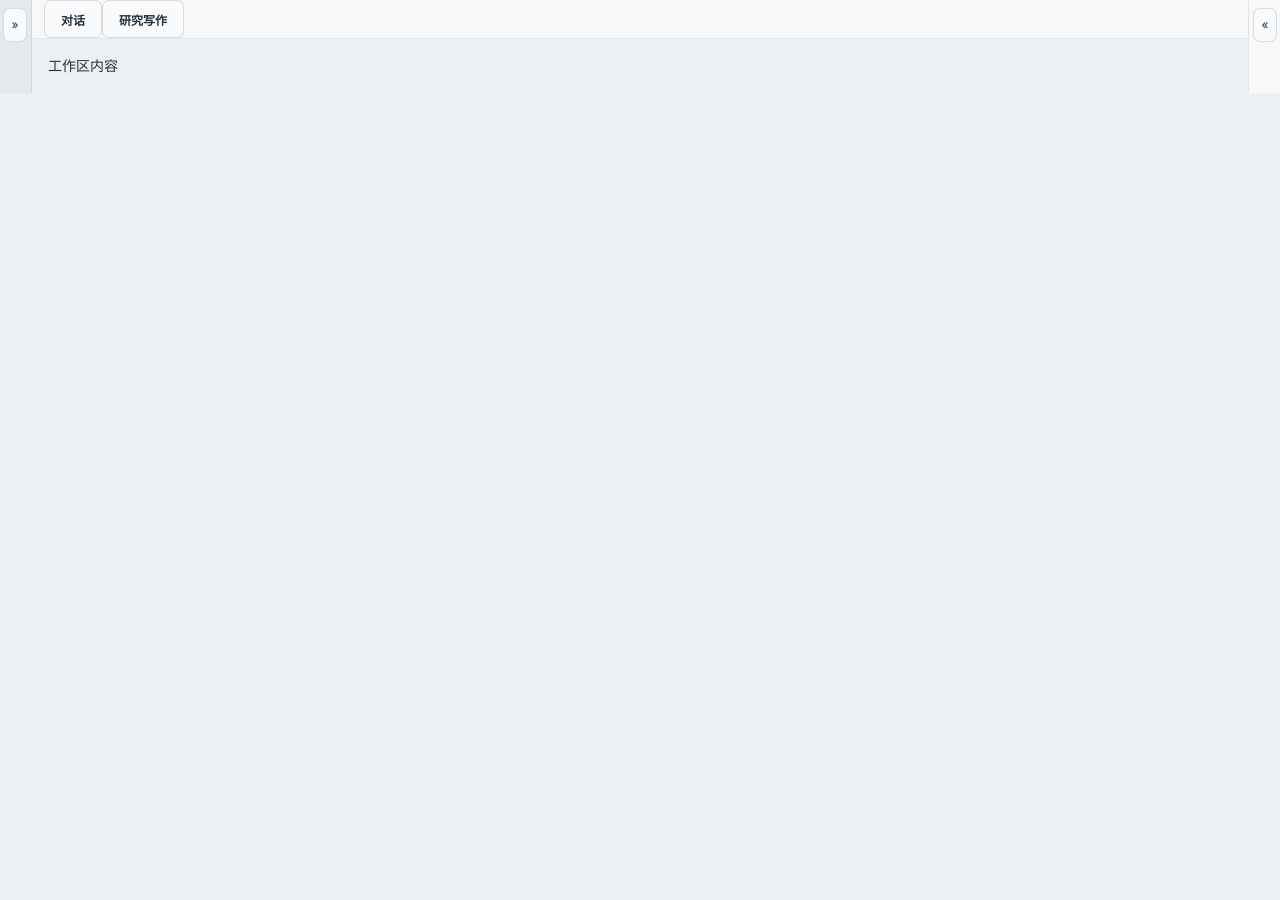
Test case: METIS-501 ProjectShell — collapse behavior › preserves a non-default user preference across narrow and wide bands
Click the button named "展开检查器".
click(1265, 25)  # box x1=1253 y1=8 x2=1277 y2=42
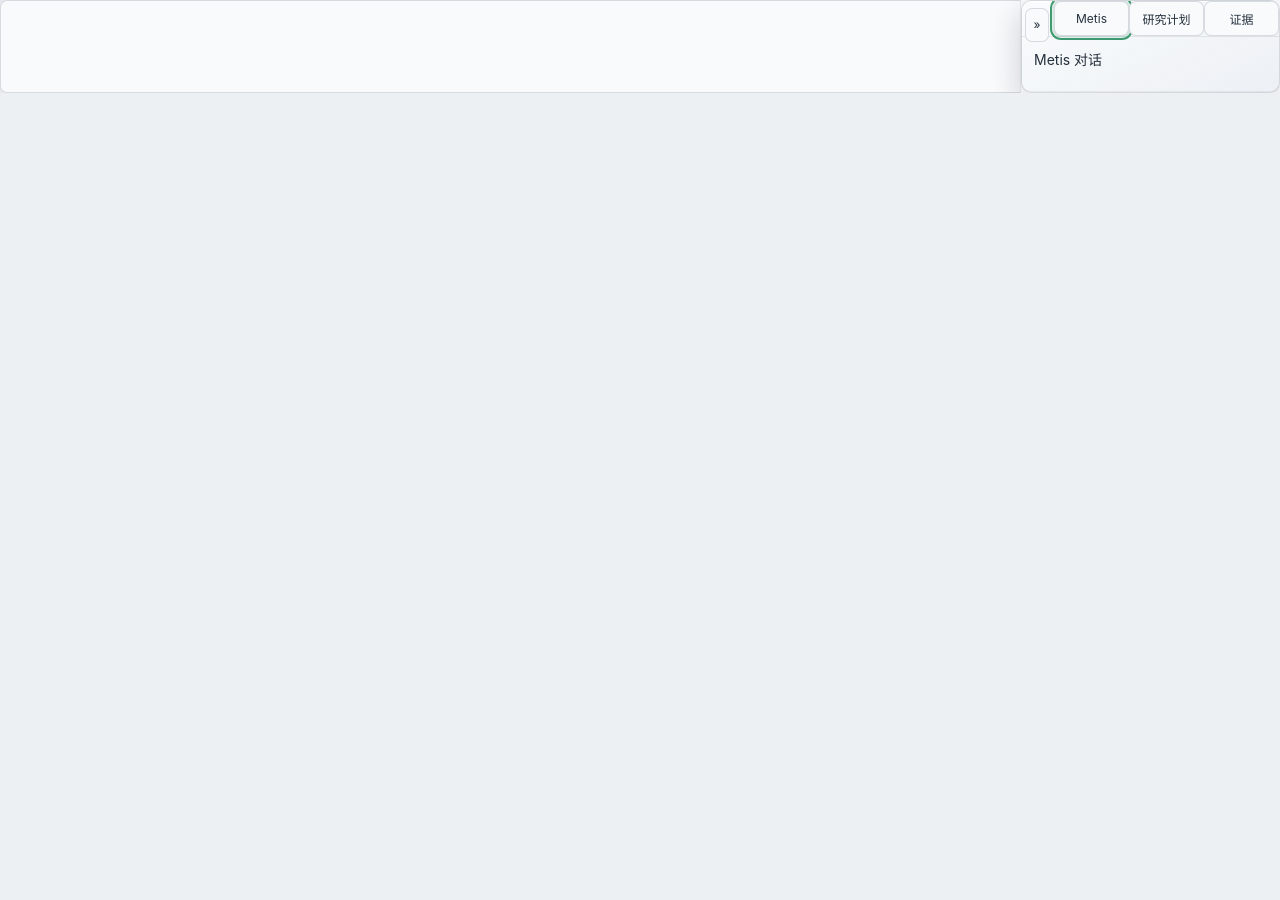
Click the button named "收起检查器".
click(1037, 25)  # box x1=1025 y1=8 x2=1049 y2=42
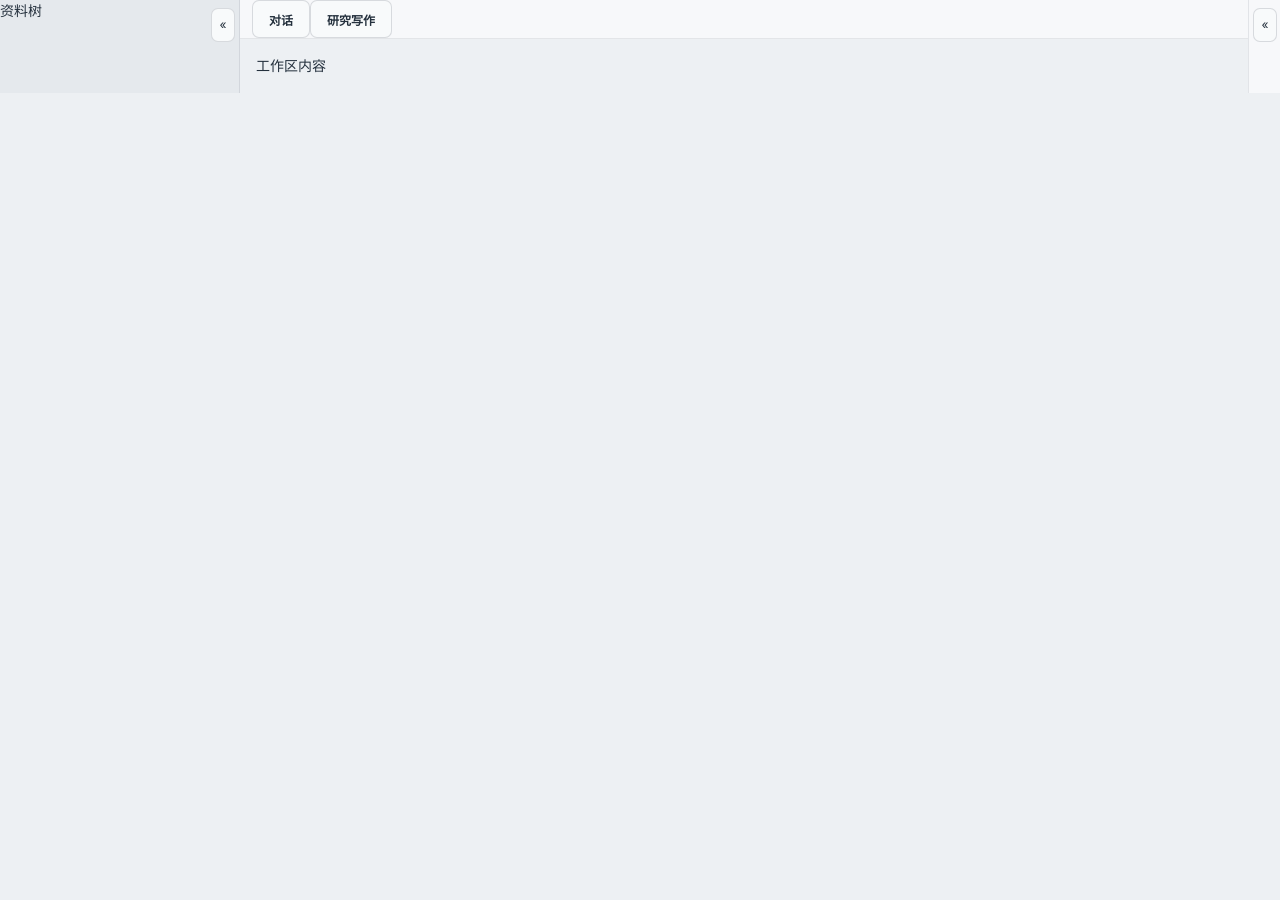
Expected: the button named "展开检查器" is collapsed, x1=1253 y1=8 x2=1277 y2=42
